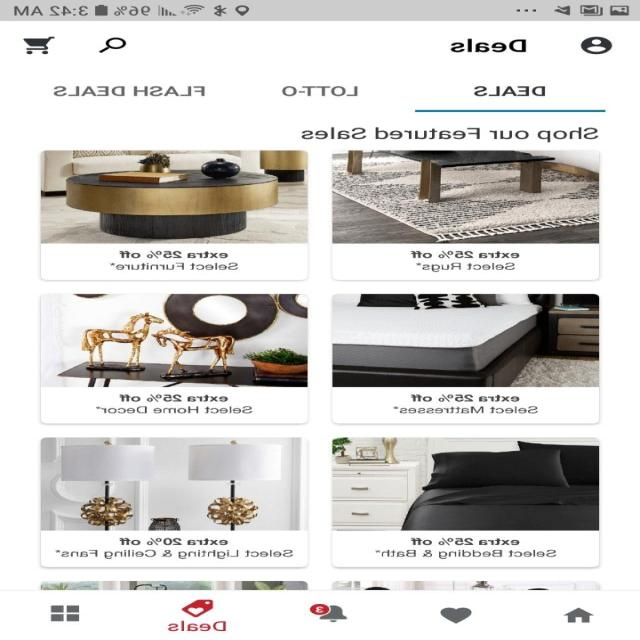Icon: (311, 603, 348, 622), (24, 36, 56, 55), (182, 599, 214, 617), (440, 606, 472, 624), (580, 36, 612, 54), (562, 606, 594, 623), (51, 604, 80, 621), (99, 37, 128, 54)
Image: (39, 293, 308, 387), (332, 293, 600, 387), (40, 150, 308, 244), (333, 150, 600, 244), (40, 437, 308, 530), (333, 437, 599, 530), (332, 580, 601, 590), (42, 580, 308, 590)
Text: (55, 537, 294, 559), (301, 126, 599, 143), (375, 537, 557, 559), (95, 394, 254, 414), (393, 394, 539, 414), (110, 251, 239, 270), (410, 250, 520, 272), (54, 85, 206, 96), (450, 38, 528, 53), (282, 85, 358, 96), (474, 85, 546, 96), (168, 620, 227, 631)
